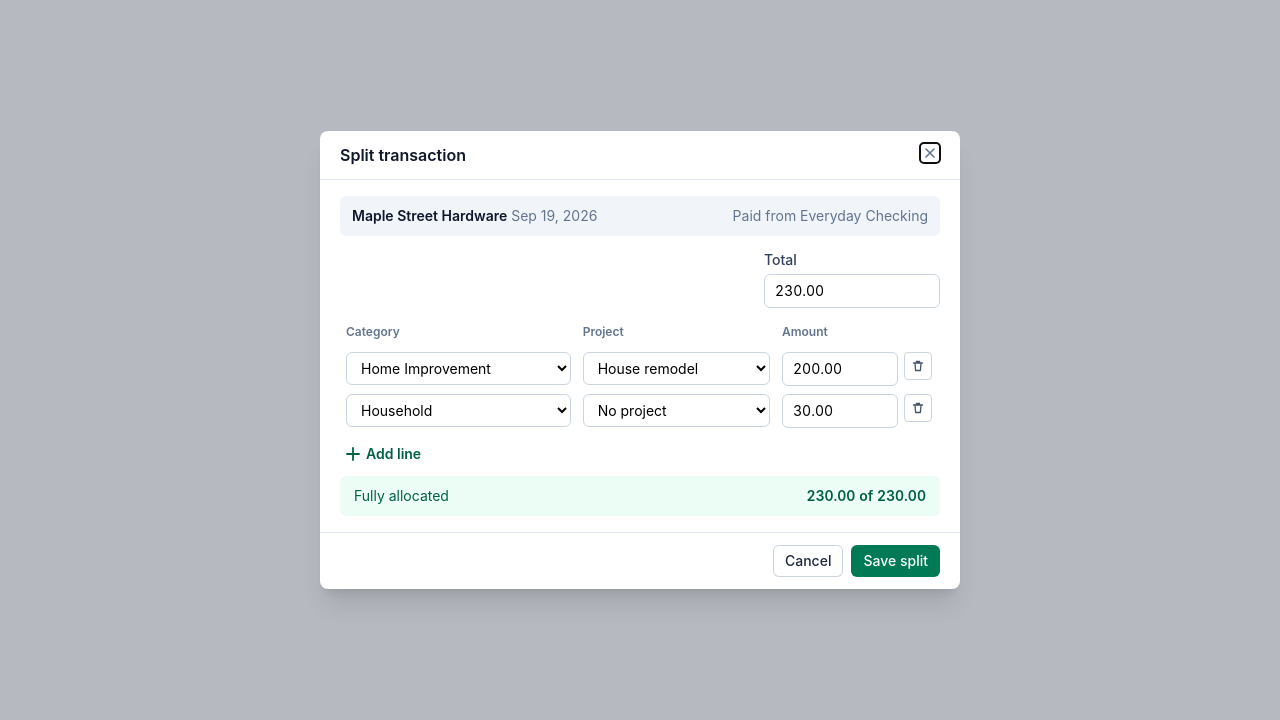
it: split editor › keeps Save disabled, and says why, until the lines equal the total
Replace the text in the field named "Amount, line 2" with "10.00": (840,411) top-left (782, 394), bottom-right (898, 428)
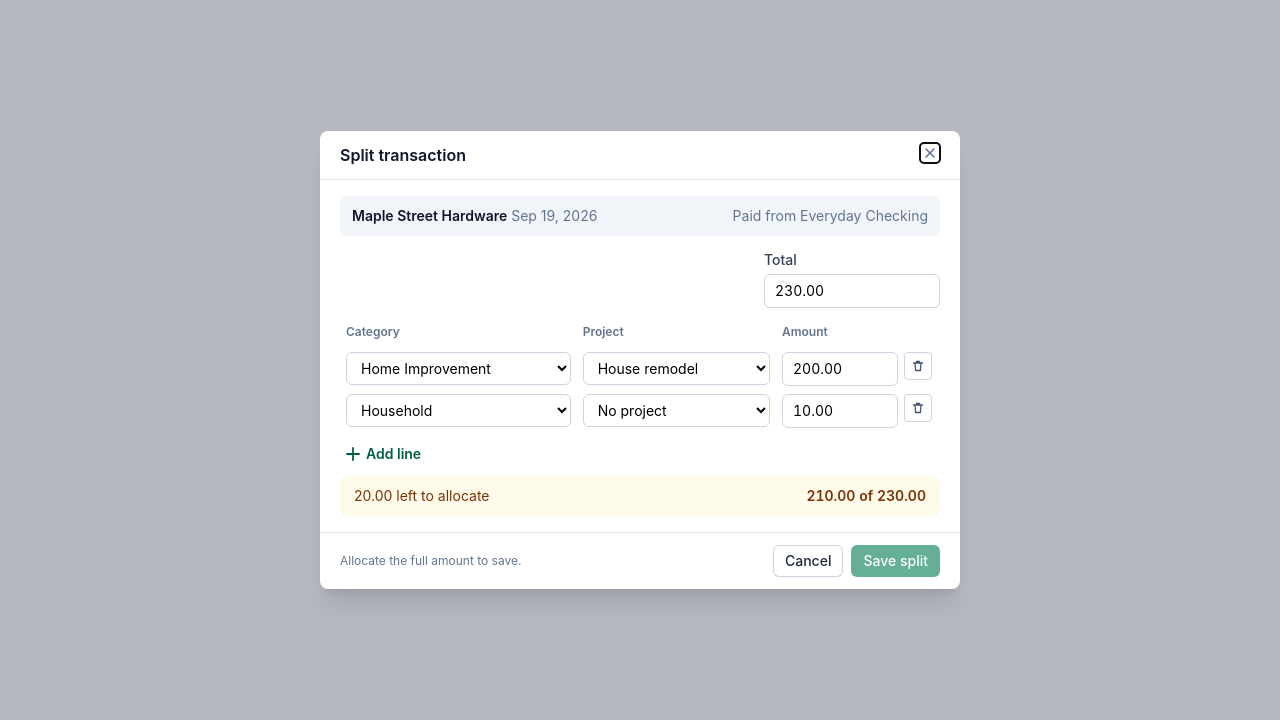
Check: the message shows "20.00 left to allocate", box top-left (354, 487), bottom-right (490, 504)
Check: the message shows "210.00 of 230.00", box top-left (340, 476), bottom-right (940, 516)
Check: the button "Save split" is disabled, box top-left (852, 545), bottom-right (940, 577)
Replace the text in the field named "Amount, line 2" with "50.00": (840,411) top-left (782, 394), bottom-right (898, 428)
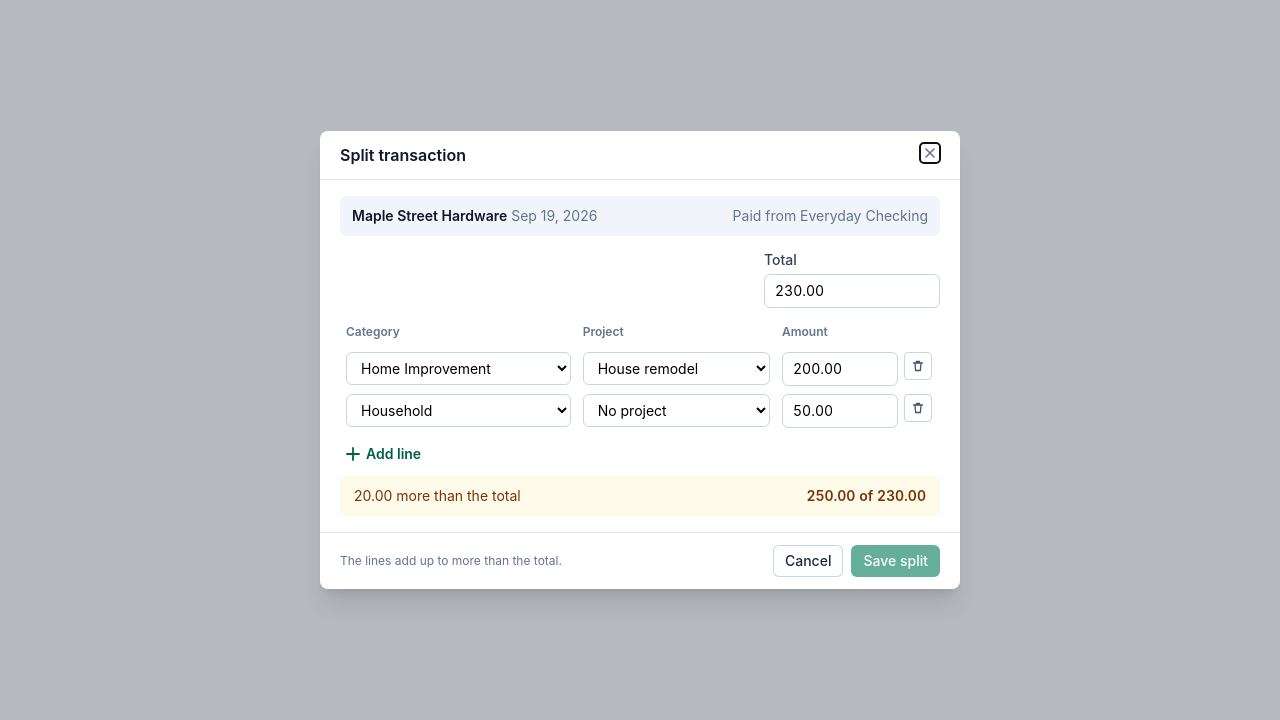
Check: the button "Save split" is disabled, box top-left (852, 545), bottom-right (940, 577)
Check: the message shows "20.00 more than the total", box top-left (354, 487), bottom-right (521, 504)
Replace the text in the field named "Amount, line 2" with "30.00": (840,411) top-left (782, 394), bottom-right (898, 428)
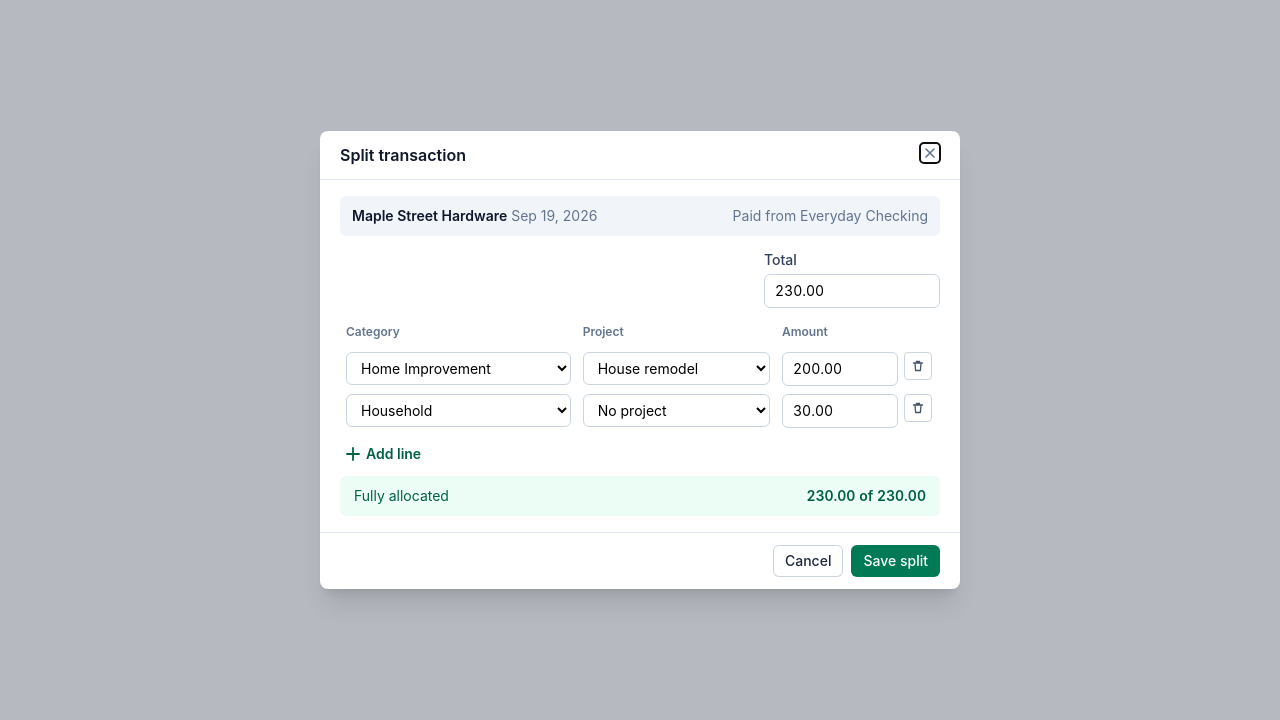
Check: the button "Save split" is enabled, box top-left (852, 545), bottom-right (940, 577)
